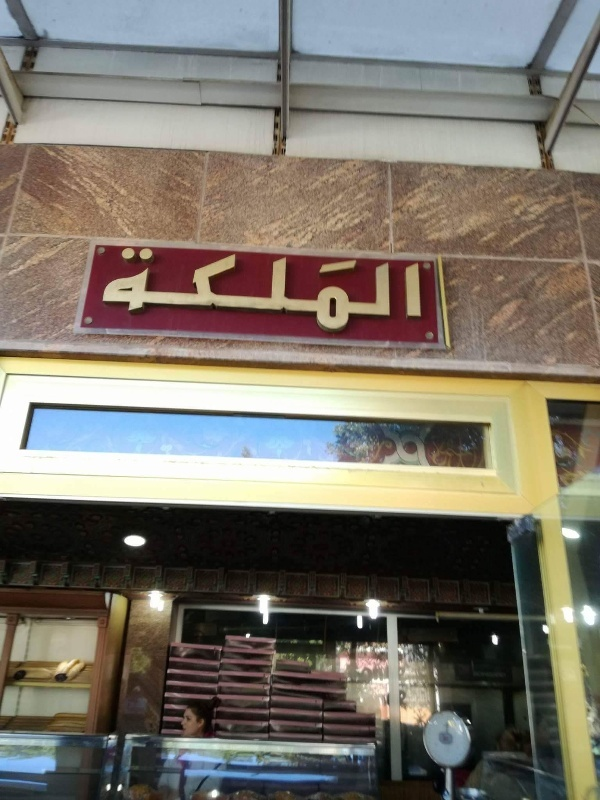text: (113, 246, 128, 338), (129, 246, 144, 338), (145, 246, 160, 338), (161, 246, 176, 338), (177, 246, 192, 338), (193, 246, 208, 338), (209, 246, 224, 338), (225, 246, 240, 338), (241, 246, 256, 338), (257, 246, 272, 338), (273, 246, 288, 338), (289, 246, 304, 338), (305, 246, 320, 338), (321, 246, 336, 338), (337, 246, 352, 338), (353, 246, 368, 338), (369, 246, 384, 338), (385, 246, 400, 338), (401, 246, 416, 338), (417, 246, 423, 338)
